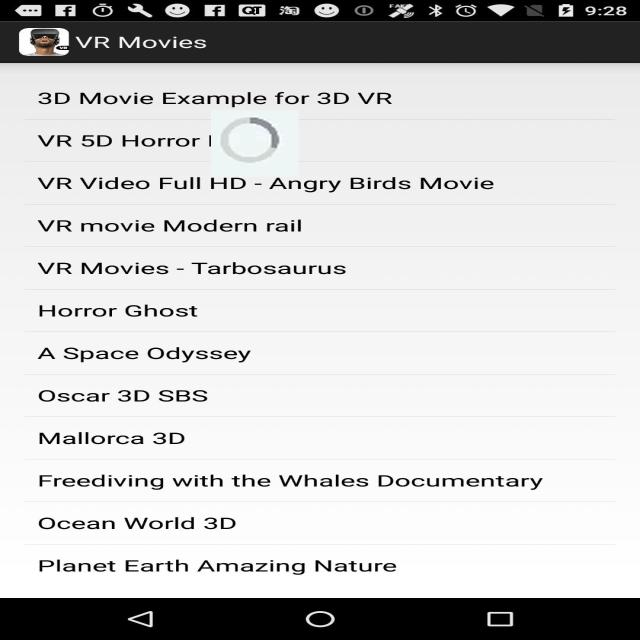misdirection: (211, 110, 299, 177)
